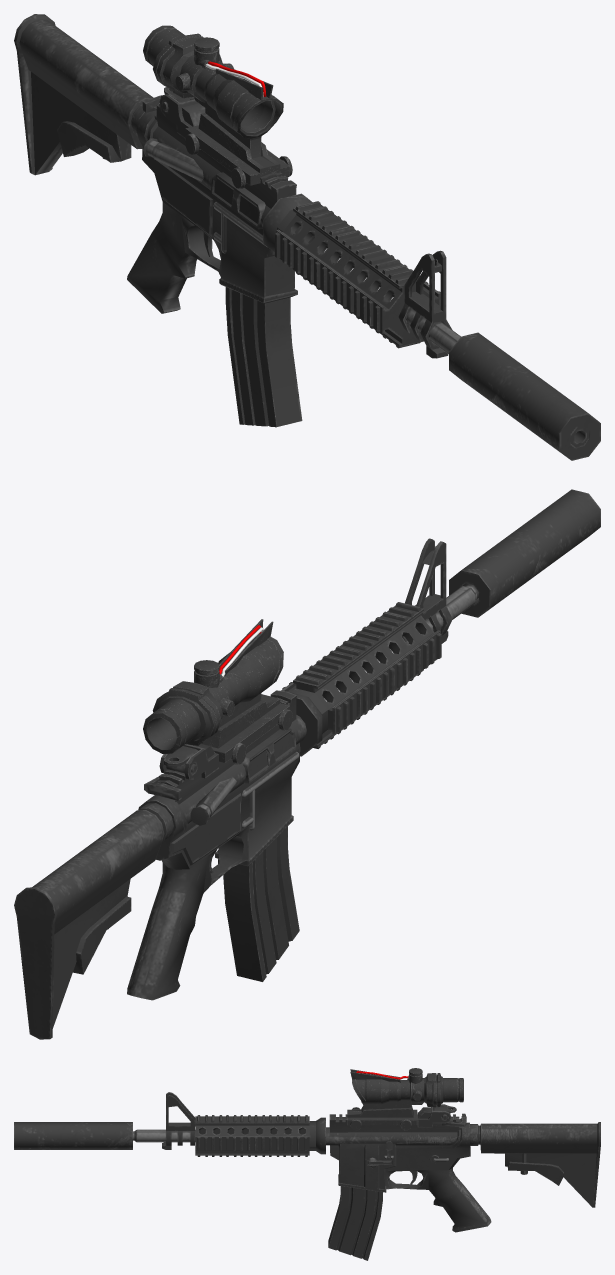
File: m4withacog.FBX
The picture shows the model from 3 angles, top to bottom: view 1: azimuth 30°, elevation 25°; view 2: azimuth 150°, elevation 25°; view 3: azimuth 270°, elevation 25°; orthographic projection. The views are drawn at different scales.
Parts seen in each view (by area): view 1: m4, acog, magazine, suspressor, ironSight; view 2: m4, acog, suspressor, magazine, ironSight; view 3: m4, acog, suspressor, magazine, ironSight.
Part boxes in pixels (bbox=[...]): m4: bbox=[14, 14, 589, 447]; acog: bbox=[143, 25, 292, 188]; magazine: bbox=[225, 287, 302, 427]; suspressor: bbox=[449, 332, 600, 460]; ironSight: bbox=[159, 94, 205, 138]; m4: bbox=[14, 538, 478, 1039]; acog: bbox=[143, 619, 292, 764]; suspressor: bbox=[449, 489, 600, 617]; magazine: bbox=[223, 826, 299, 981]; ironSight: bbox=[159, 744, 218, 779]; m4: bbox=[133, 1092, 600, 1232]; acog: bbox=[347, 1068, 463, 1130]; suspressor: bbox=[14, 1122, 132, 1149]; magazine: bbox=[328, 1186, 382, 1260]; ironSight: bbox=[417, 1104, 451, 1127].
Bounding box in the file's own units: 11.48 × 58.14 × 166.
2 materials, 2 textured.
